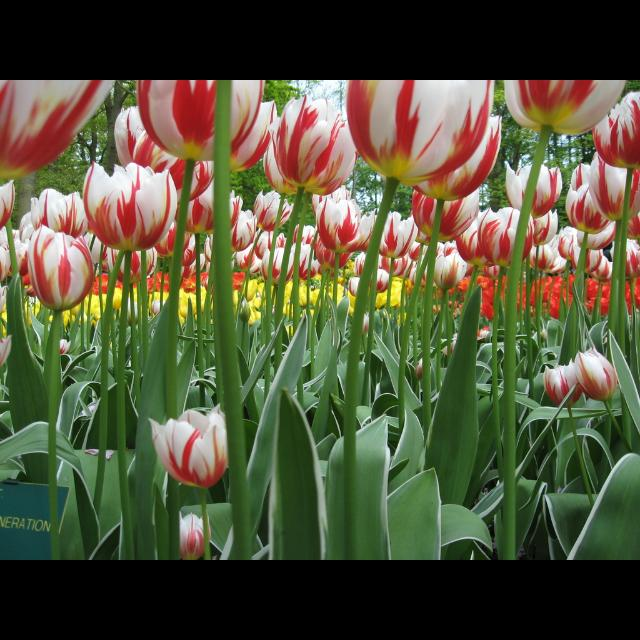Flower: (1, 82, 640, 364), (140, 410, 234, 504), (570, 346, 614, 400), (541, 359, 581, 406), (178, 514, 206, 560)
